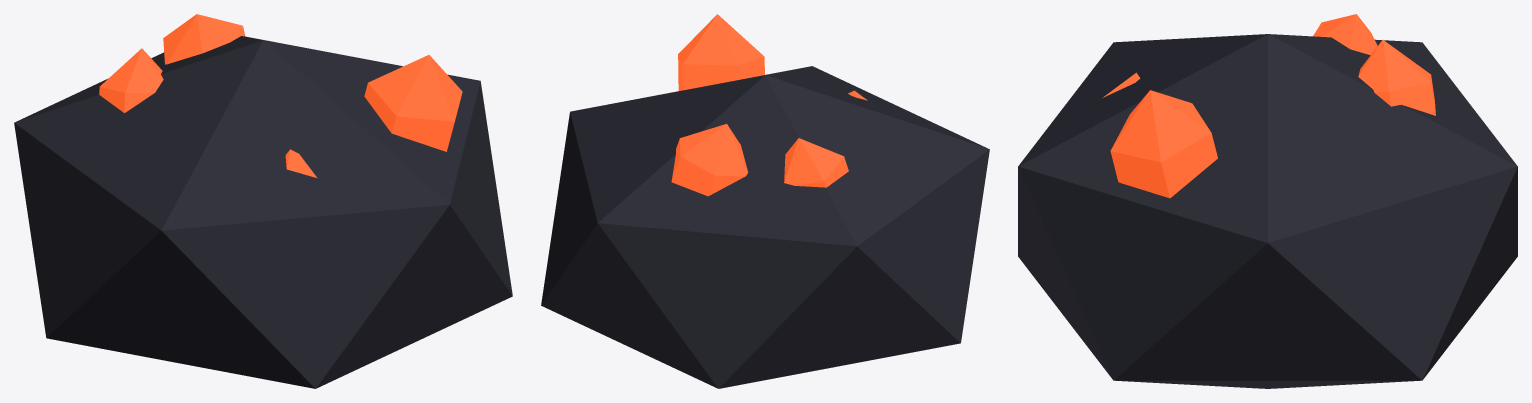
The model's file is coalbush.glb.
The picture shows the model from 3 angles, left to right: view 1: azimuth 30°, elevation 25°; view 2: azimuth 150°, elevation 25°; view 3: azimuth 270°, elevation 25°; orthographic projection. The views are drawn at different scales.
Parts seen in each view (by area): view 1: coalbush; view 2: coalbush; view 3: coalbush.
Boxes of the visible parts, x1,y1,x2,y2 form: coalbush: (14,14,512,388); coalbush: (541,14,989,388); coalbush: (1018,14,1517,388).
Bounding box in the file's own units: 0.966 × 0.72 × 0.9187.
